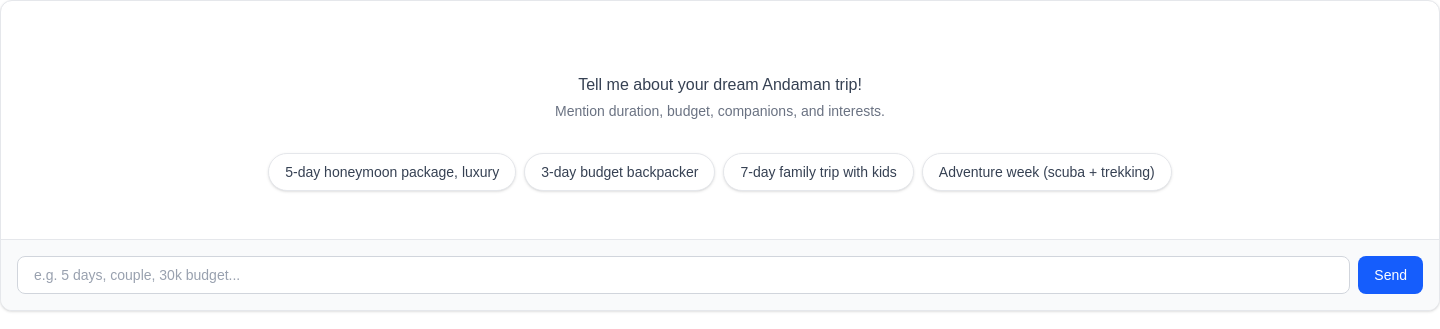
Test: ChatPanel Component › handles API errors gracefully
The width and height of the screenshot is (1440, 329).
Type "I want a 3-day trip." into the field with placeholder "e.g. 5 days, couple, 30k budget...". click: coordinates (684, 275)
box: [17,256,1350,294]
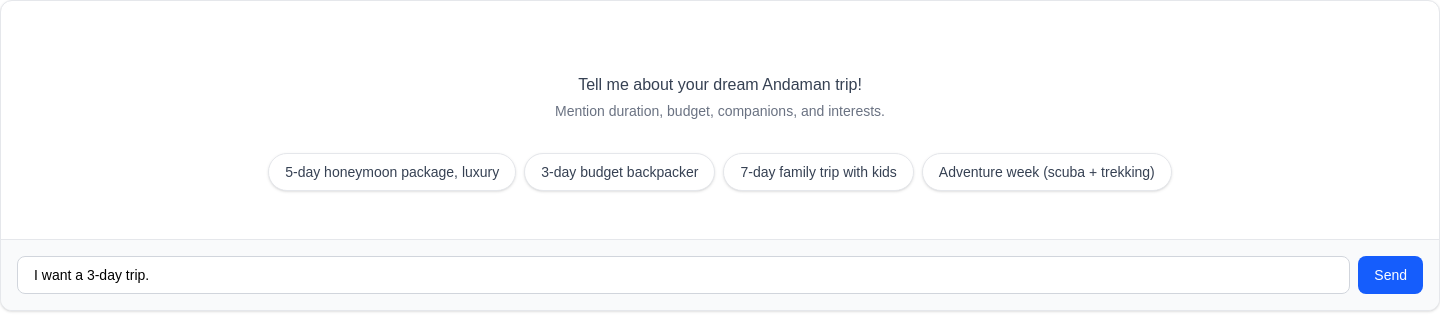
Click the button with aria-label "generate itinerary". click: coordinates (1391, 275)
box: [1358,256,1423,294]
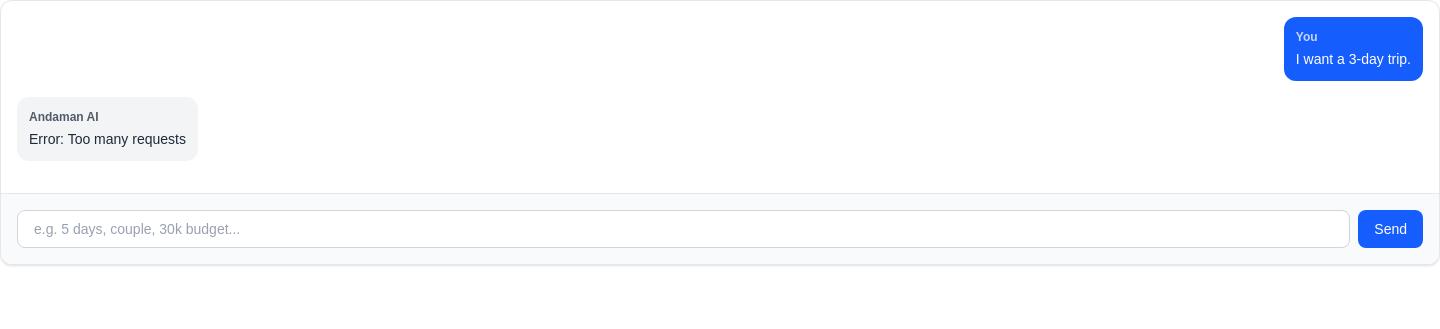
Expected: the text "Error: Too many requests" is shown, [29,129,186,149]
